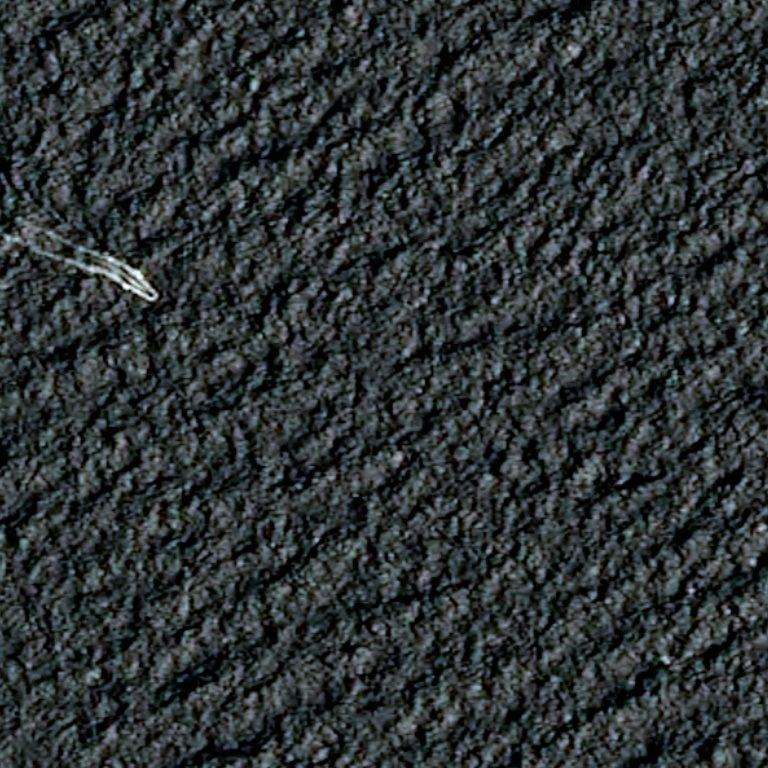ship: (139, 284, 157, 302)
